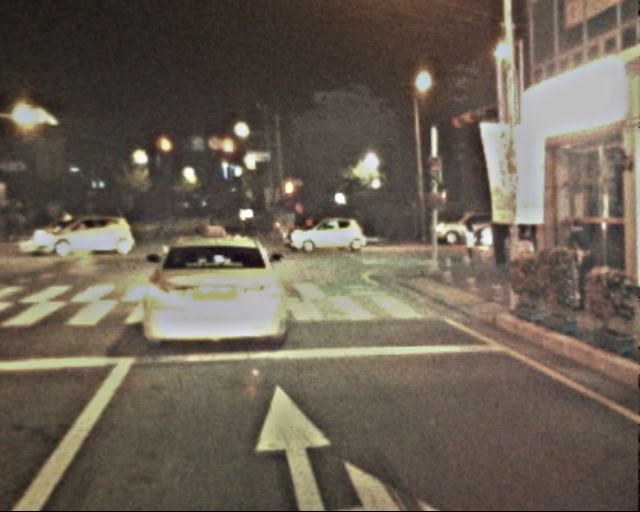person: (565, 215, 594, 302), (490, 215, 511, 273), (459, 219, 480, 269), (289, 204, 317, 231), (13, 208, 33, 238), (240, 207, 255, 243), (151, 208, 165, 242), (164, 208, 177, 239), (191, 210, 202, 238), (204, 210, 215, 237)
